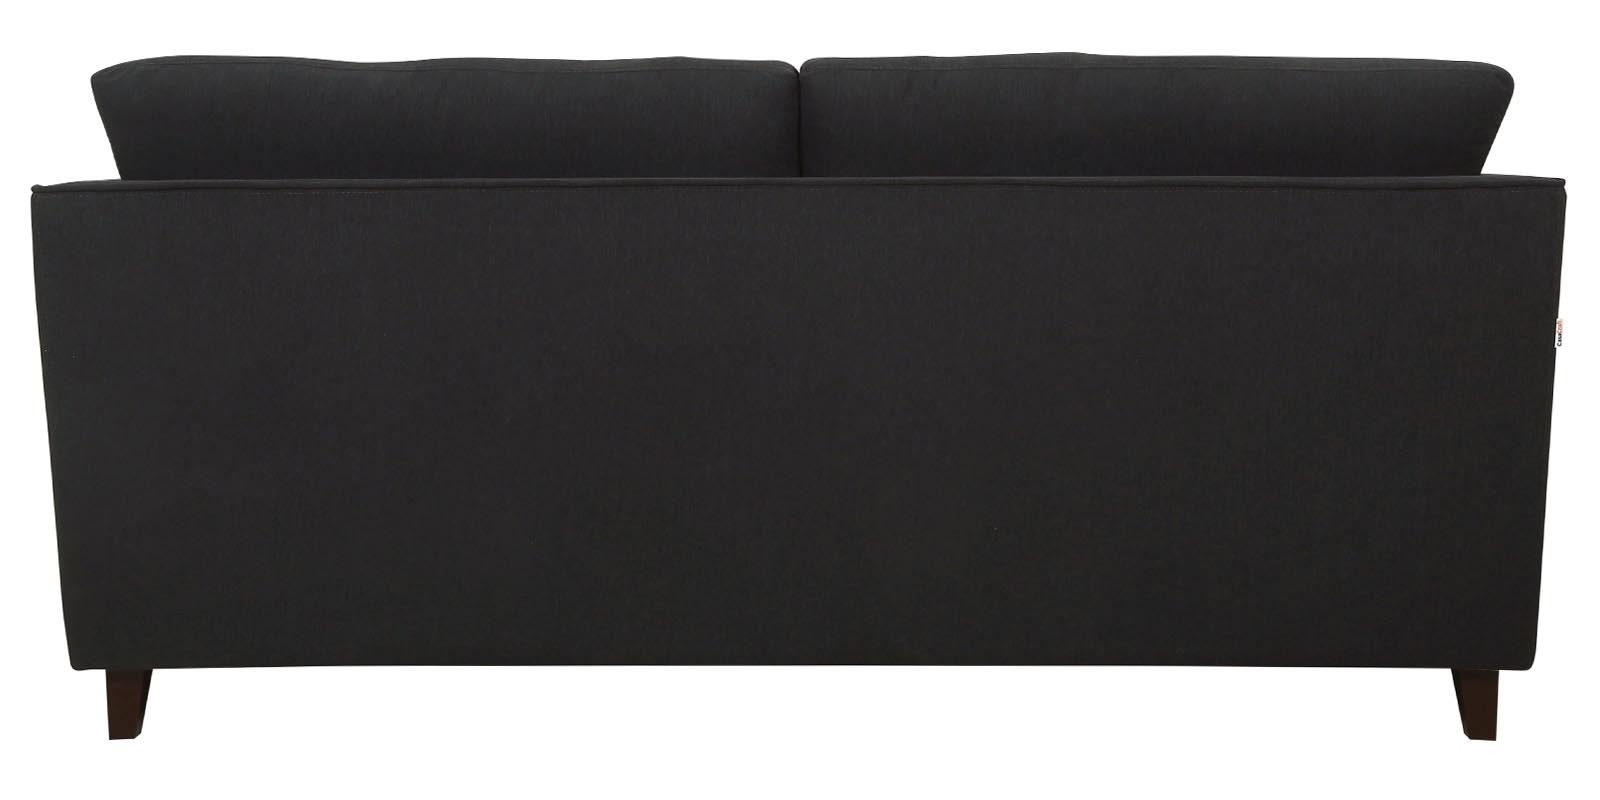Miranda Three Seater Sofa in Charcoal Grey Colour by CasaCraft: (26, 49, 1570, 742)
